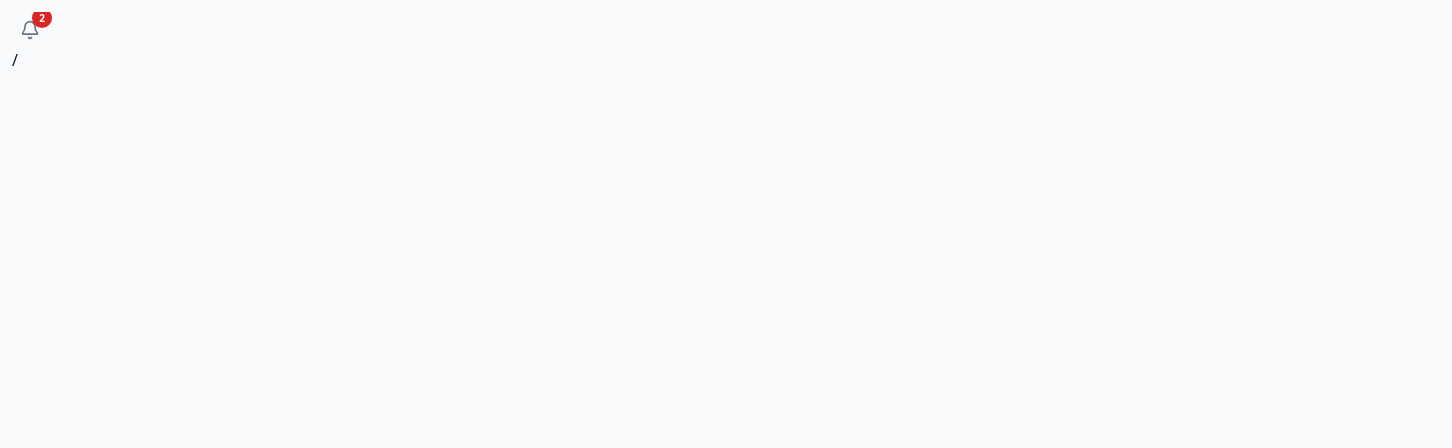
Scenario: NotificationBell › restores a failed acknowledgement and shows its error
What coordinates should you click on to do the following:
click the button named "Notifications, 2 active alerts"
I would click on:
 (30, 30)
Its box is [12,12,48,48].
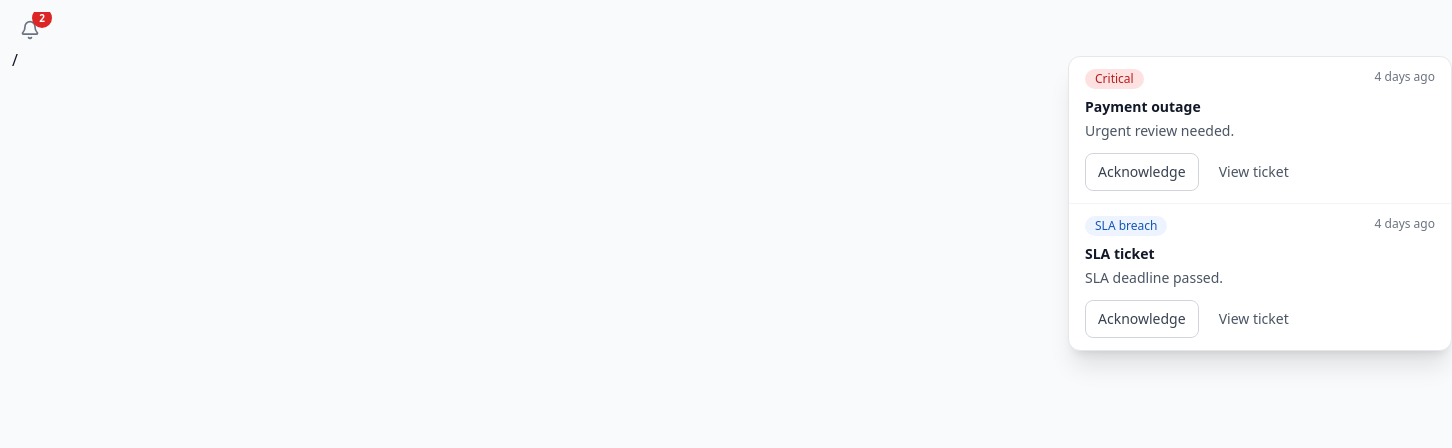
What coordinates should you click on to do the following:
click the button "Acknowledge" below "Urgent review needed."
I would click on:
 (1142, 172)
Its box is [1085,153,1199,191].
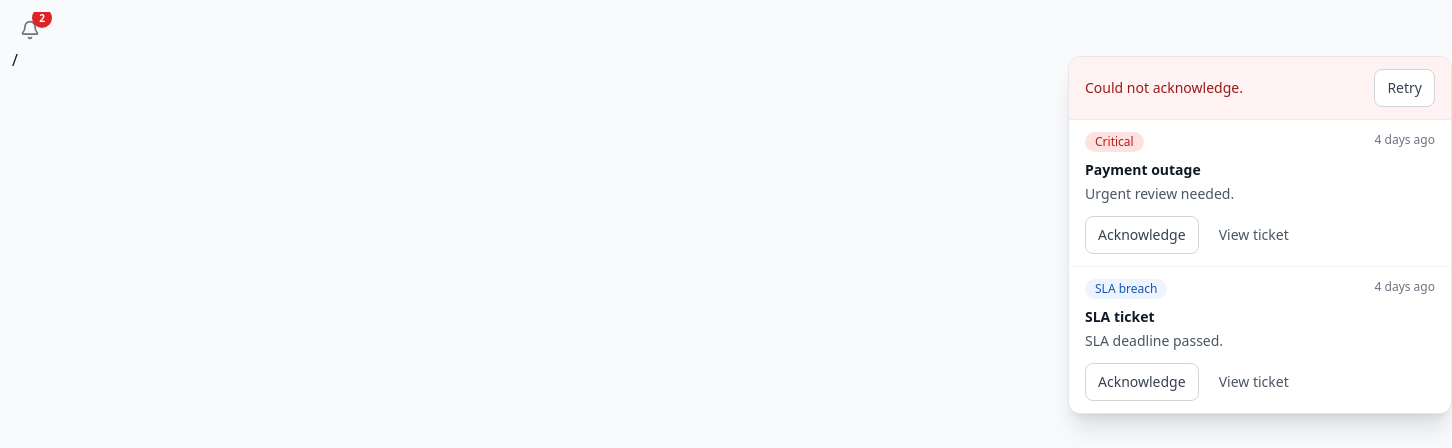
Expected: the button named "Notifications, 2 active alerts" is shown, [12,12,48,48]
Expected: the heading "Payment outage" is shown, [1085,160,1201,179]
Expected: the message shows "Could not acknowledge.", [1085,78,1243,97]
